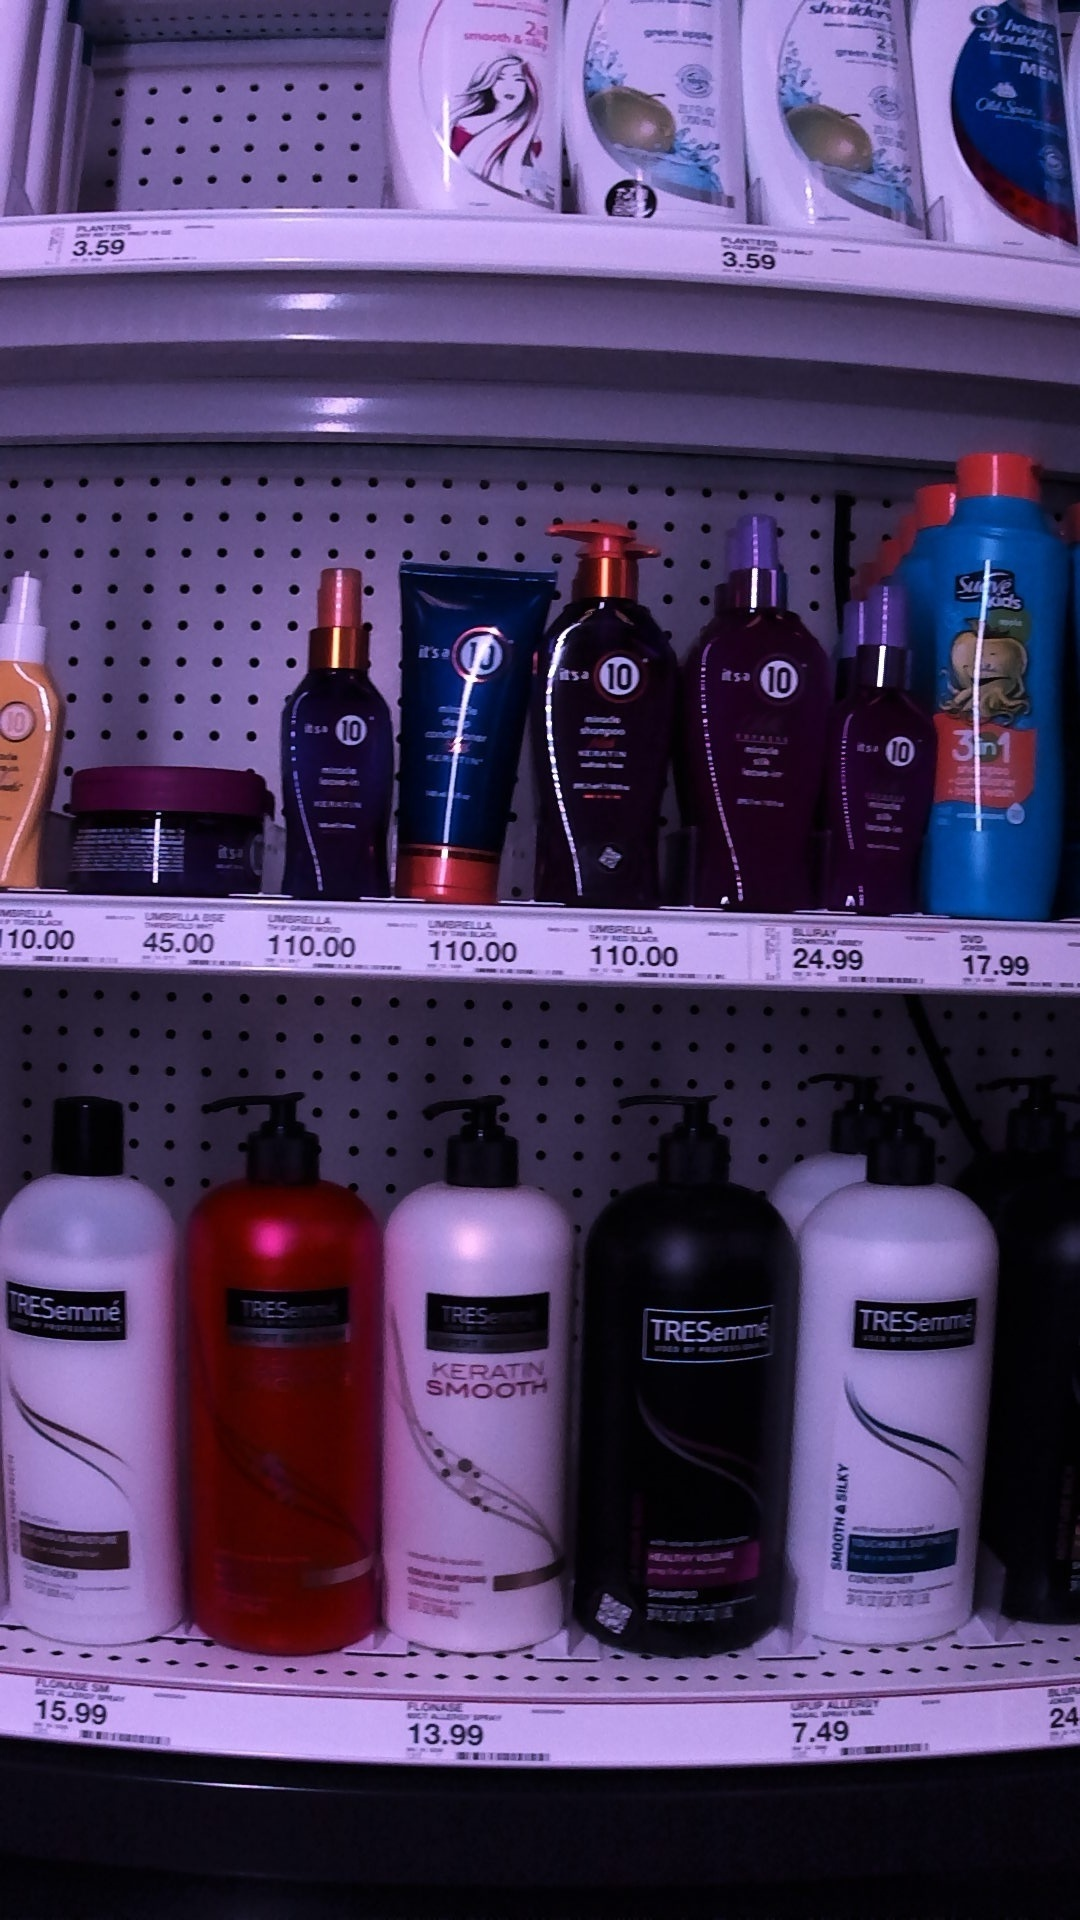ptag: (758, 913, 935, 1006), (24, 1665, 198, 1760), (781, 1683, 951, 1768), (584, 906, 742, 996), (398, 1689, 582, 1766), (426, 899, 571, 996), (711, 218, 882, 297), (264, 899, 409, 992), (44, 202, 220, 277), (1, 897, 133, 980), (955, 913, 1071, 1004), (142, 902, 253, 986)
